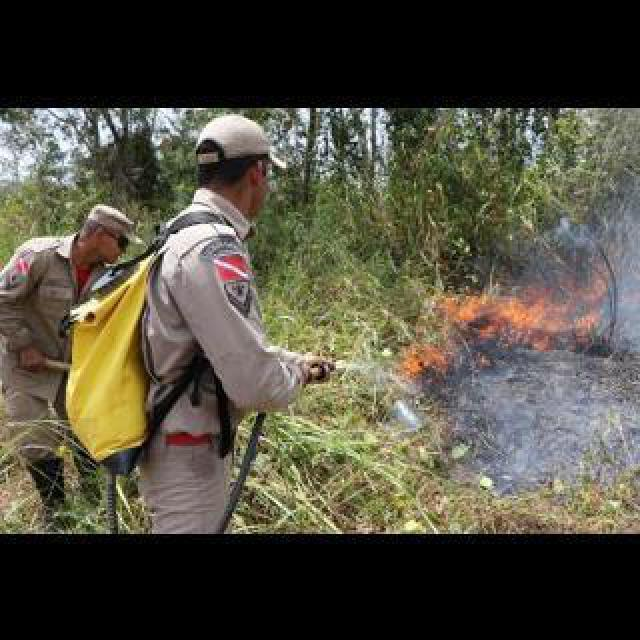Fire: (430, 284, 596, 342), (392, 340, 446, 374)
